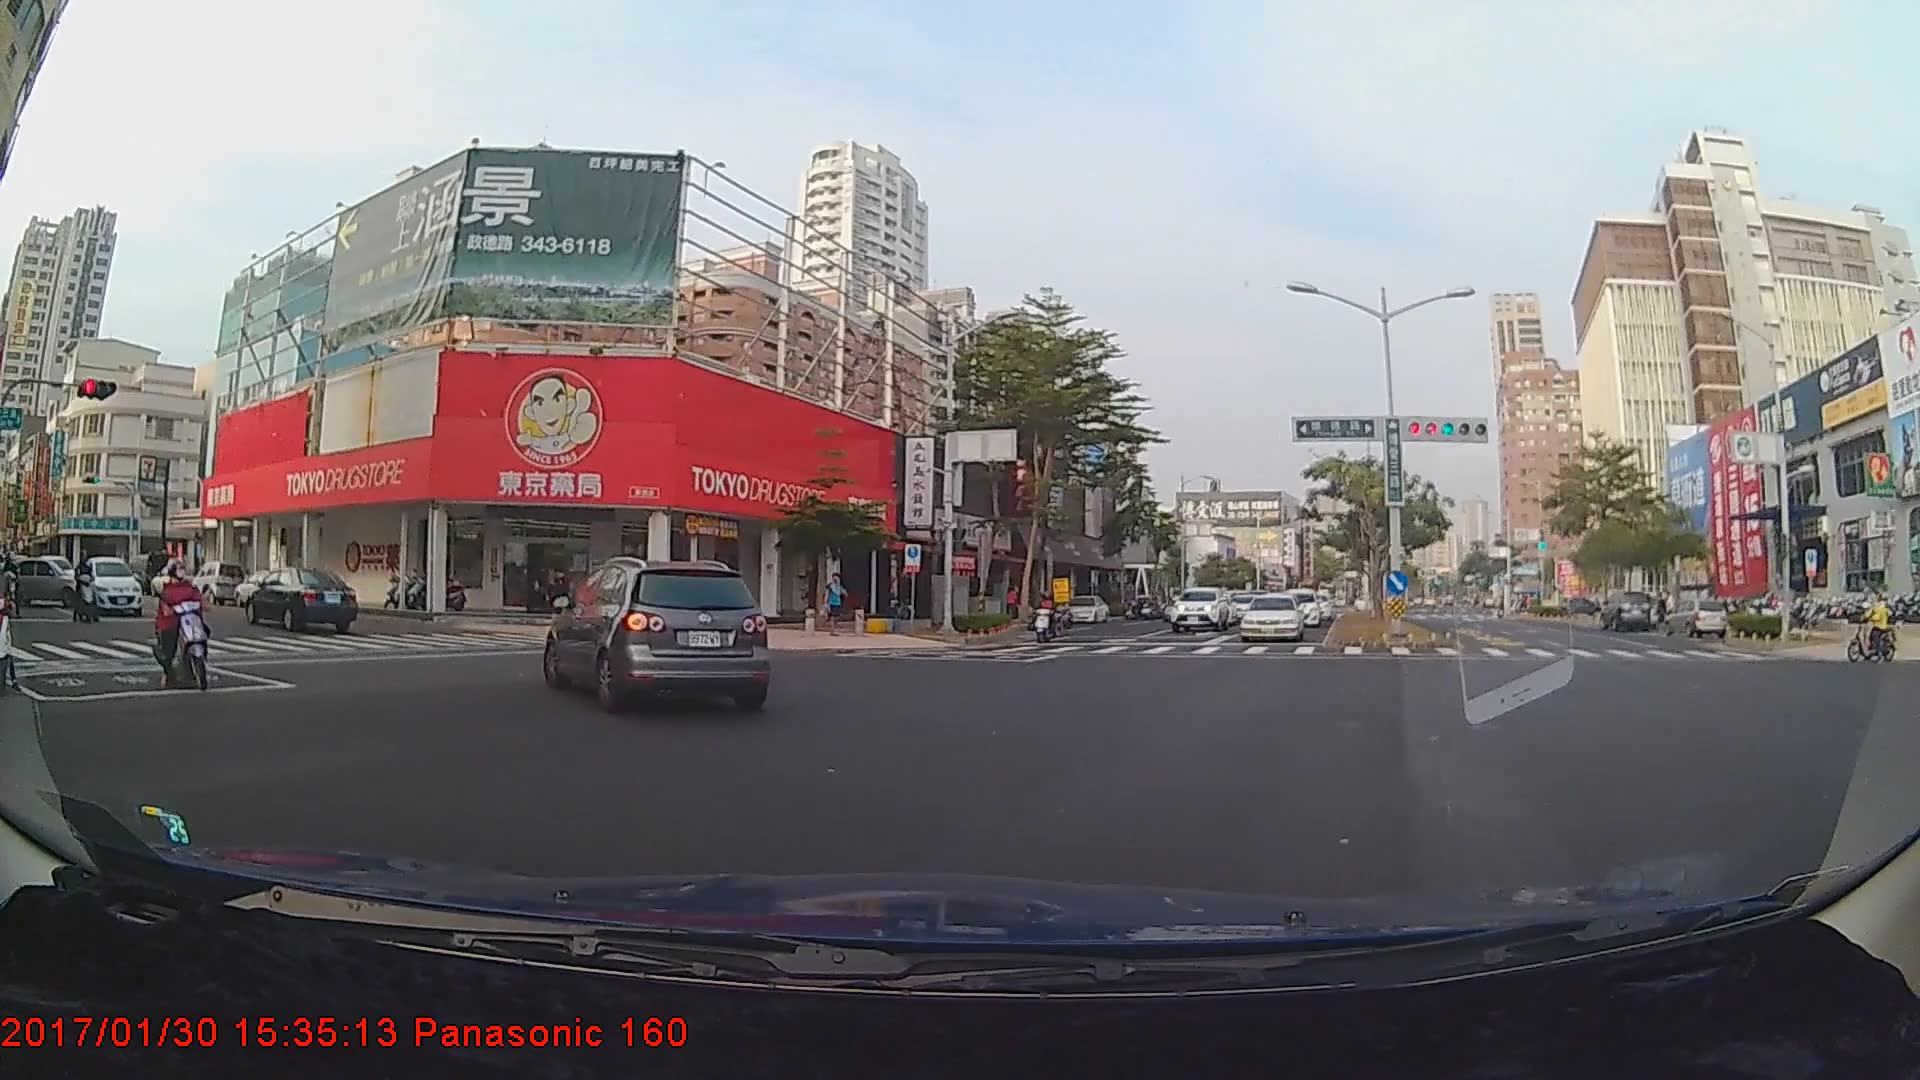pedestrian: (826, 572, 847, 643)
rider: (154, 560, 221, 691), (71, 547, 109, 627), (1033, 586, 1068, 644)
vehicle: (546, 557, 768, 711), (246, 566, 356, 635), (80, 555, 144, 614), (1239, 594, 1302, 642), (1170, 587, 1228, 635), (1596, 591, 1651, 633), (1272, 587, 1321, 628), (1008, 605, 1031, 625)
